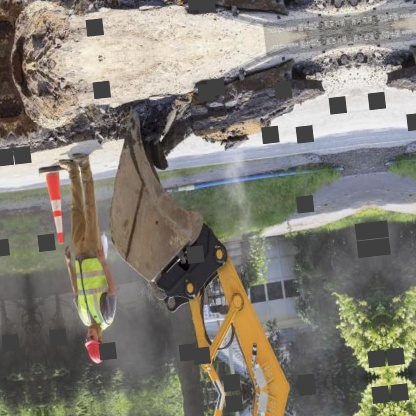red: (84, 338, 112, 367)
vest: (69, 254, 123, 335)
